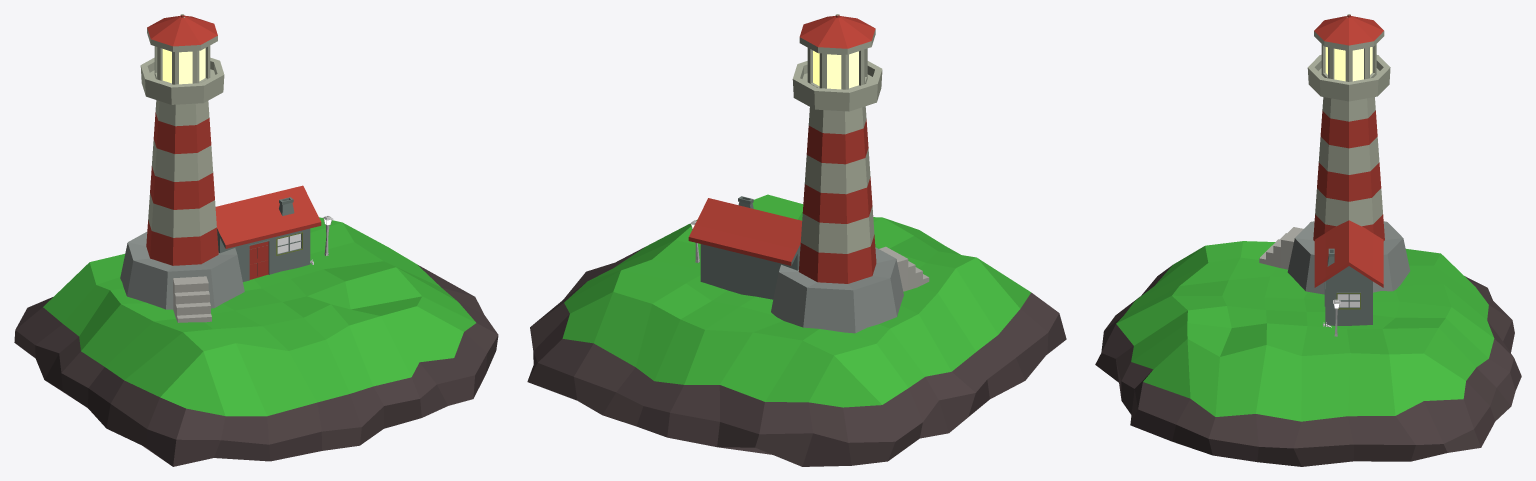
Rendered from casaenlaisla.gltf.
3 views of the same model, side by side, from view 1: azimuth 30°, elevation 25°; view 2: azimuth 150°, elevation 25°; view 3: azimuth 270°, elevation 25° (orthographic). The views are drawn at different scales.
Parts seen in each view (by area): view 1: terreno, faro, casa, escaleras; view 2: terreno, faro, casa, escaleras; view 3: terreno, faro, casa, escaleras.
Boxes of the visible parts, x1,y1,x2,y2 form: terreno: (14,217,498,466); faro: (120,14,244,309); casa: (215,185,321,281); escaleras: (173,276,211,322); terreno: (527,194,1066,466); faro: (771,14,903,333); casa: (688,196,802,299); escaleras: (879,246,929,291); terreno: (1095,241,1521,466); faro: (1287,14,1410,294); casa: (1314,220,1383,325); escaleras: (1259,227,1303,269).
Size of the model in its own units: 7.78 by 6.7 by 7.73.
